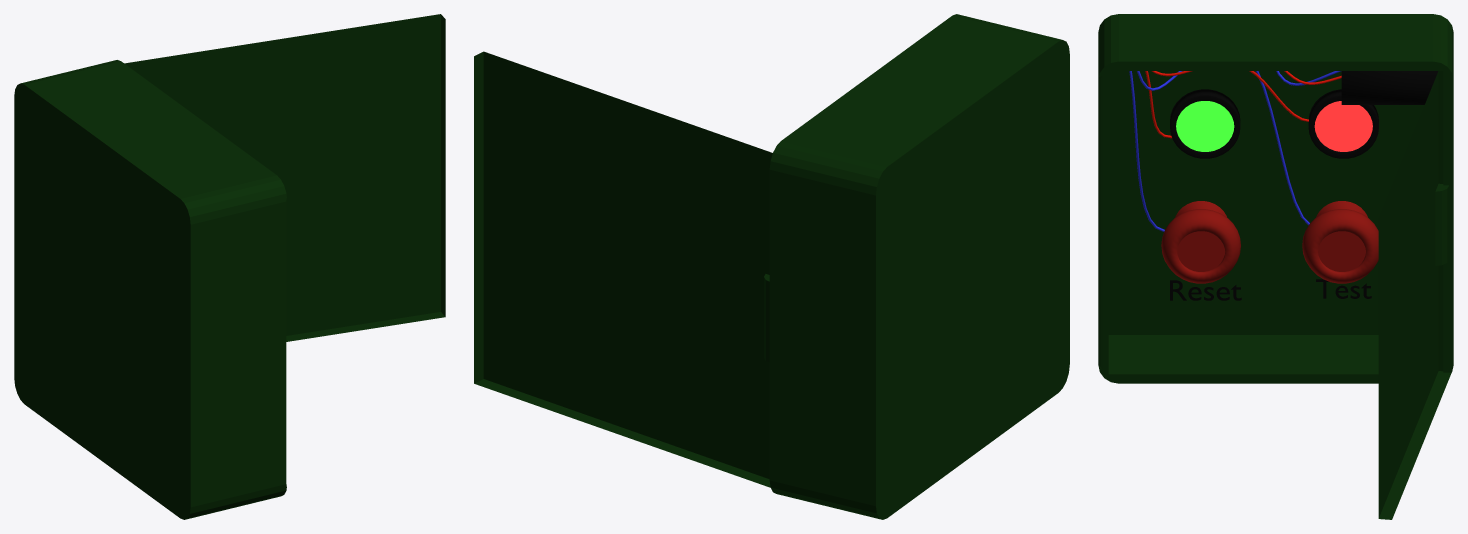
Rendered from power suply 4.glb.
3 renders of one model, left to right at view 1: azimuth 30°, elevation 25°; view 2: azimuth 150°, elevation 25°; view 3: azimuth 270°, elevation 25°, orthographic. The views are drawn at different scales.
Parts seen in each view (by area): view 1: Cube; view 2: Cube; view 3: Cube, Cylinder.002, Cylinder.001, Cylinder.008, Cylinder.004, Cylinder.007, Cylinder, Cylinder.006, Cylinder.005, Cylinder.003, BézierCurve.003, Text (+1 smaller).
Boxes of the visible parts, x1=… form: Cube: x1=14, y1=14, x2=445, y2=519; Cube: x1=474, y1=14, x2=1069, y2=519; Cube: x1=1098, y1=14, x2=1453, y2=519; Cylinder.002: x1=1161, y1=201, x2=1240, y2=283; Cylinder.001: x1=1302, y1=201, x2=1378, y2=283; Cylinder.008: x1=1341, y1=71, x2=1438, y2=104; Cylinder.004: x1=1176, y1=101, x2=1234, y2=151; Cylinder.007: x1=1314, y1=101, x2=1372, y2=151; Cylinder: x1=1170, y1=89, x2=1240, y2=158; Cylinder.006: x1=1318, y1=231, x2=1365, y2=271; Cylinder.005: x1=1177, y1=231, x2=1224, y2=271; Cylinder.003: x1=1308, y1=89, x2=1378, y2=158; BézierCurve.003: x1=1137, y1=71, x2=1309, y2=225; Text: x1=1170, y1=280, x2=1241, y2=300.
Bounding box in the file's own units: 2.59 × 2 × 2.
